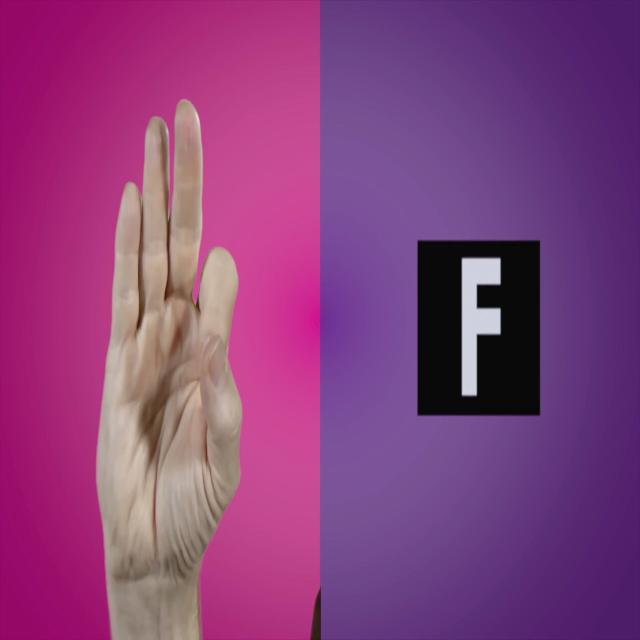F: (82, 86, 276, 637)
